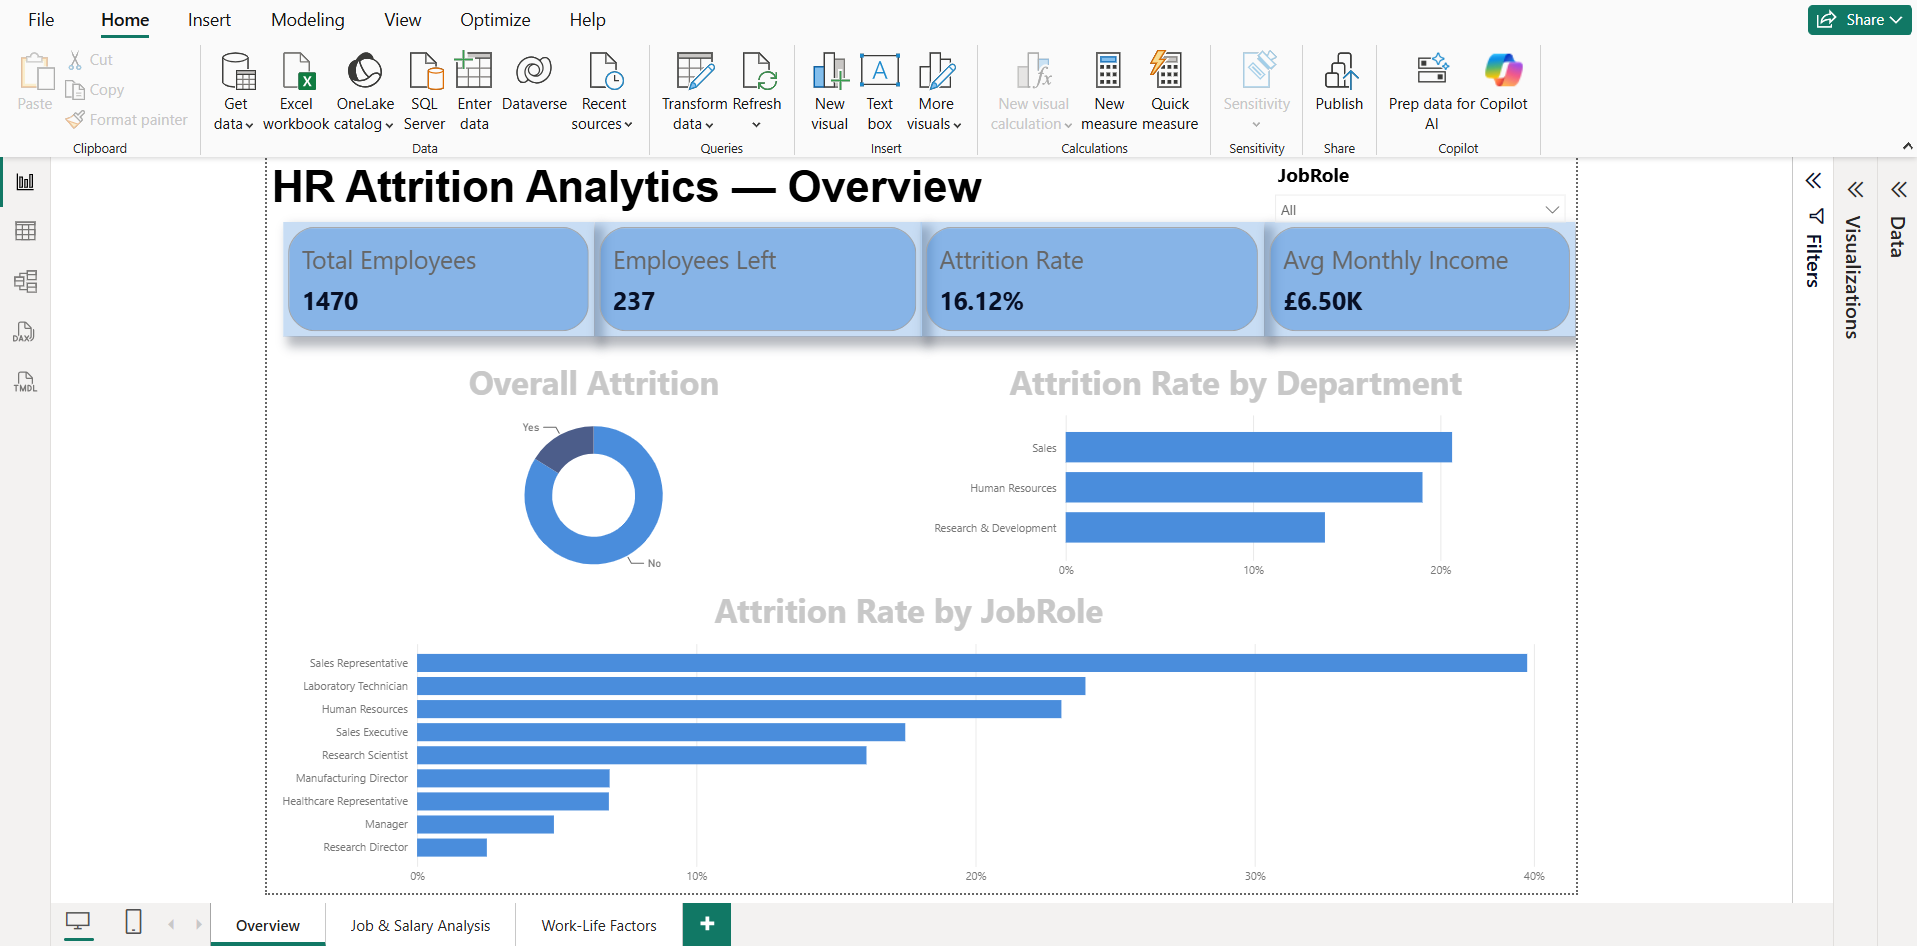

This screenshot's page, from the dashboard's own definition file:
{"tool":"powerbi","page":{"name":"Overview","canvas":[1280,720],"ordinal":0},"visuals":[{"type":"cardVisual","fields":{"Data":["_Measures.Total Employees"]},"box":[16,64,304,112],"z":0},{"type":"cardVisual","fields":{"Data":["_Measures.Employees Left"]},"box":[320,64,320,112],"z":1000},{"type":"cardVisual","fields":{"Data":["_Measures.Attrition Rate"]},"box":[640,64,336,112],"z":2000},{"type":"cardVisual","fields":{"Data":["_Measures.Avg Monthly Income"]},"box":[976,64,304,112],"z":3000},{"type":"barChart","fields":{"Y":["_Measures.Attrition Rate"],"Category":["employees.Department"]},"box":[639.5,197.6,616.1,223.7],"z":4000},{"type":"barChart","fields":{"Category":["employees.JobRole"],"Y":["_Measures.Attrition Rate"]},"box":[0,421.3,1255.6,299.1],"z":5000},{"type":"donutChart","title":"Overall Attrition","fields":{"Y":["_Measures.Total Employees"],"Category":["employees.Attrition"]},"box":[0,197.6,639.5,223.7],"z":6000},{"type":"textbox","box":[0,0,704,64],"z":7000},{"type":"slicer","fields":{"Values":["employees.JobRole"]},"box":[976,0,304,64],"z":8000}]}

Visuals, with their boxes on the page's 1280x720 design canvas (x1, y1, x2, y2). These are canvas units, not pixel positions in the 1917x946 screenshot, which may show the page scaled, cropped or inside an application window:
cardVisual - _Measures.Total Employees: <box>16,64,320,176</box>
cardVisual - _Measures.Employees Left: <box>320,64,640,176</box>
cardVisual - _Measures.Attrition Rate: <box>640,64,976,176</box>
cardVisual - _Measures.Avg Monthly Income: <box>976,64,1280,176</box>
barChart - _Measures.Attrition Rate x employees.Department: <box>640,198,1256,421</box>
barChart - employees.JobRole x _Measures.Attrition Rate: <box>0,421,1256,720</box>
"Overall Attrition" donutChart: <box>0,198,640,421</box>
textbox: <box>0,0,704,64</box>
slicer - employees.JobRole: <box>976,0,1280,64</box>
